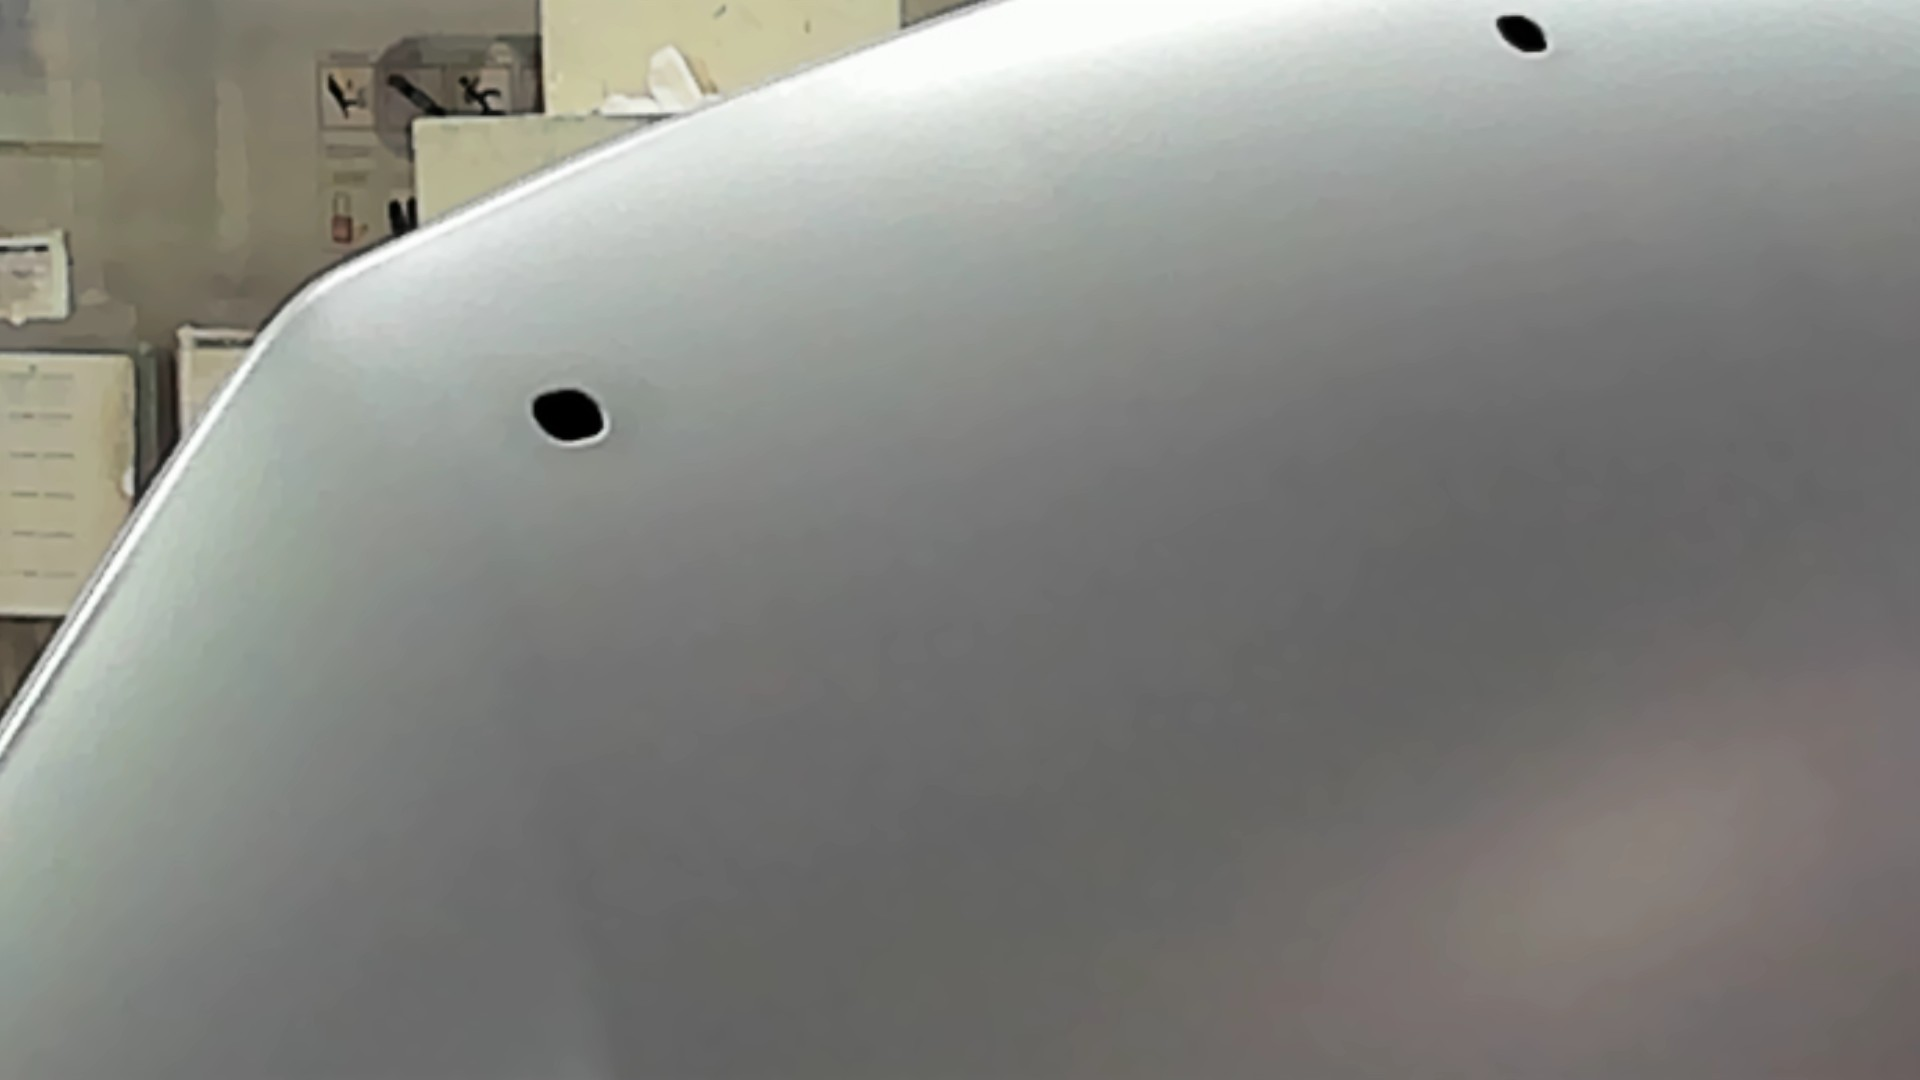amorfo: (520, 378, 618, 458), (1487, 9, 1559, 65)
